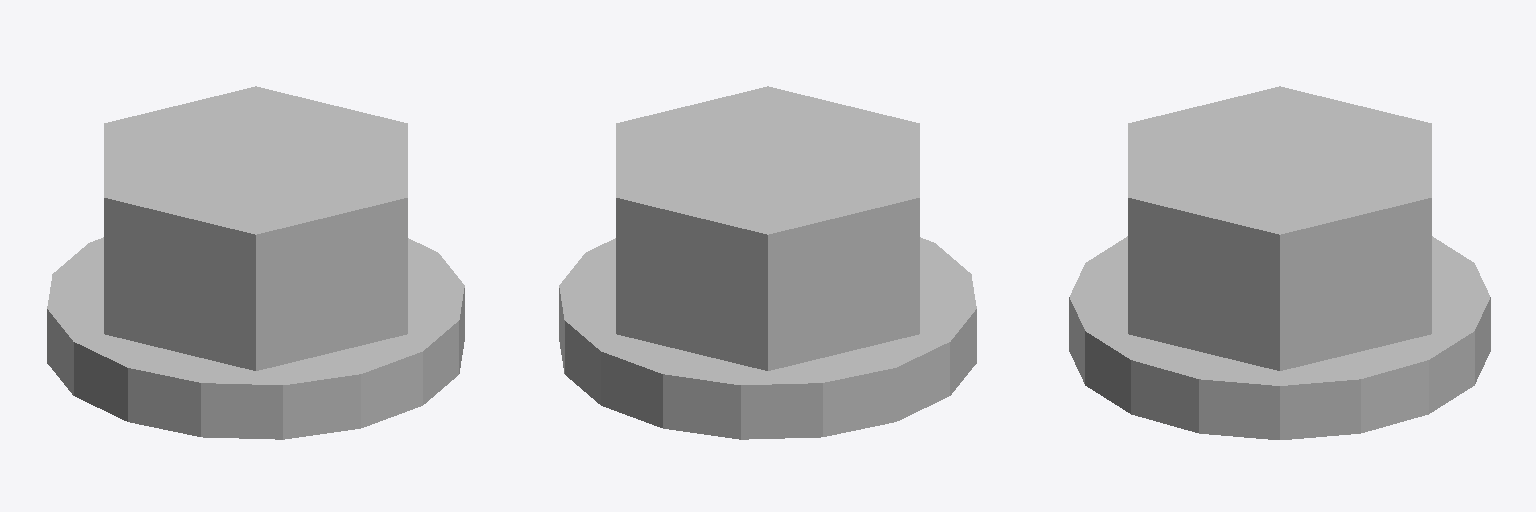
Rendered from turret_drive_key.obj.
3 views of the same model, side by side, from view 1: azimuth 30°, elevation 25°; view 2: azimuth 150°, elevation 25°; view 3: azimuth 270°, elevation 25° (orthographic).
Visible parts, largest first — view 1: TurretDriveKey; view 2: TurretDriveKey; view 3: TurretDriveKey.
Boxes of the visible parts, box(x1,y1,x2,y2) form: TurretDriveKey: box(47, 86, 464, 439); TurretDriveKey: box(559, 86, 976, 439); TurretDriveKey: box(1069, 86, 1490, 439).
Size of the model in its own units: 0.24 by 0.12 by 0.24.